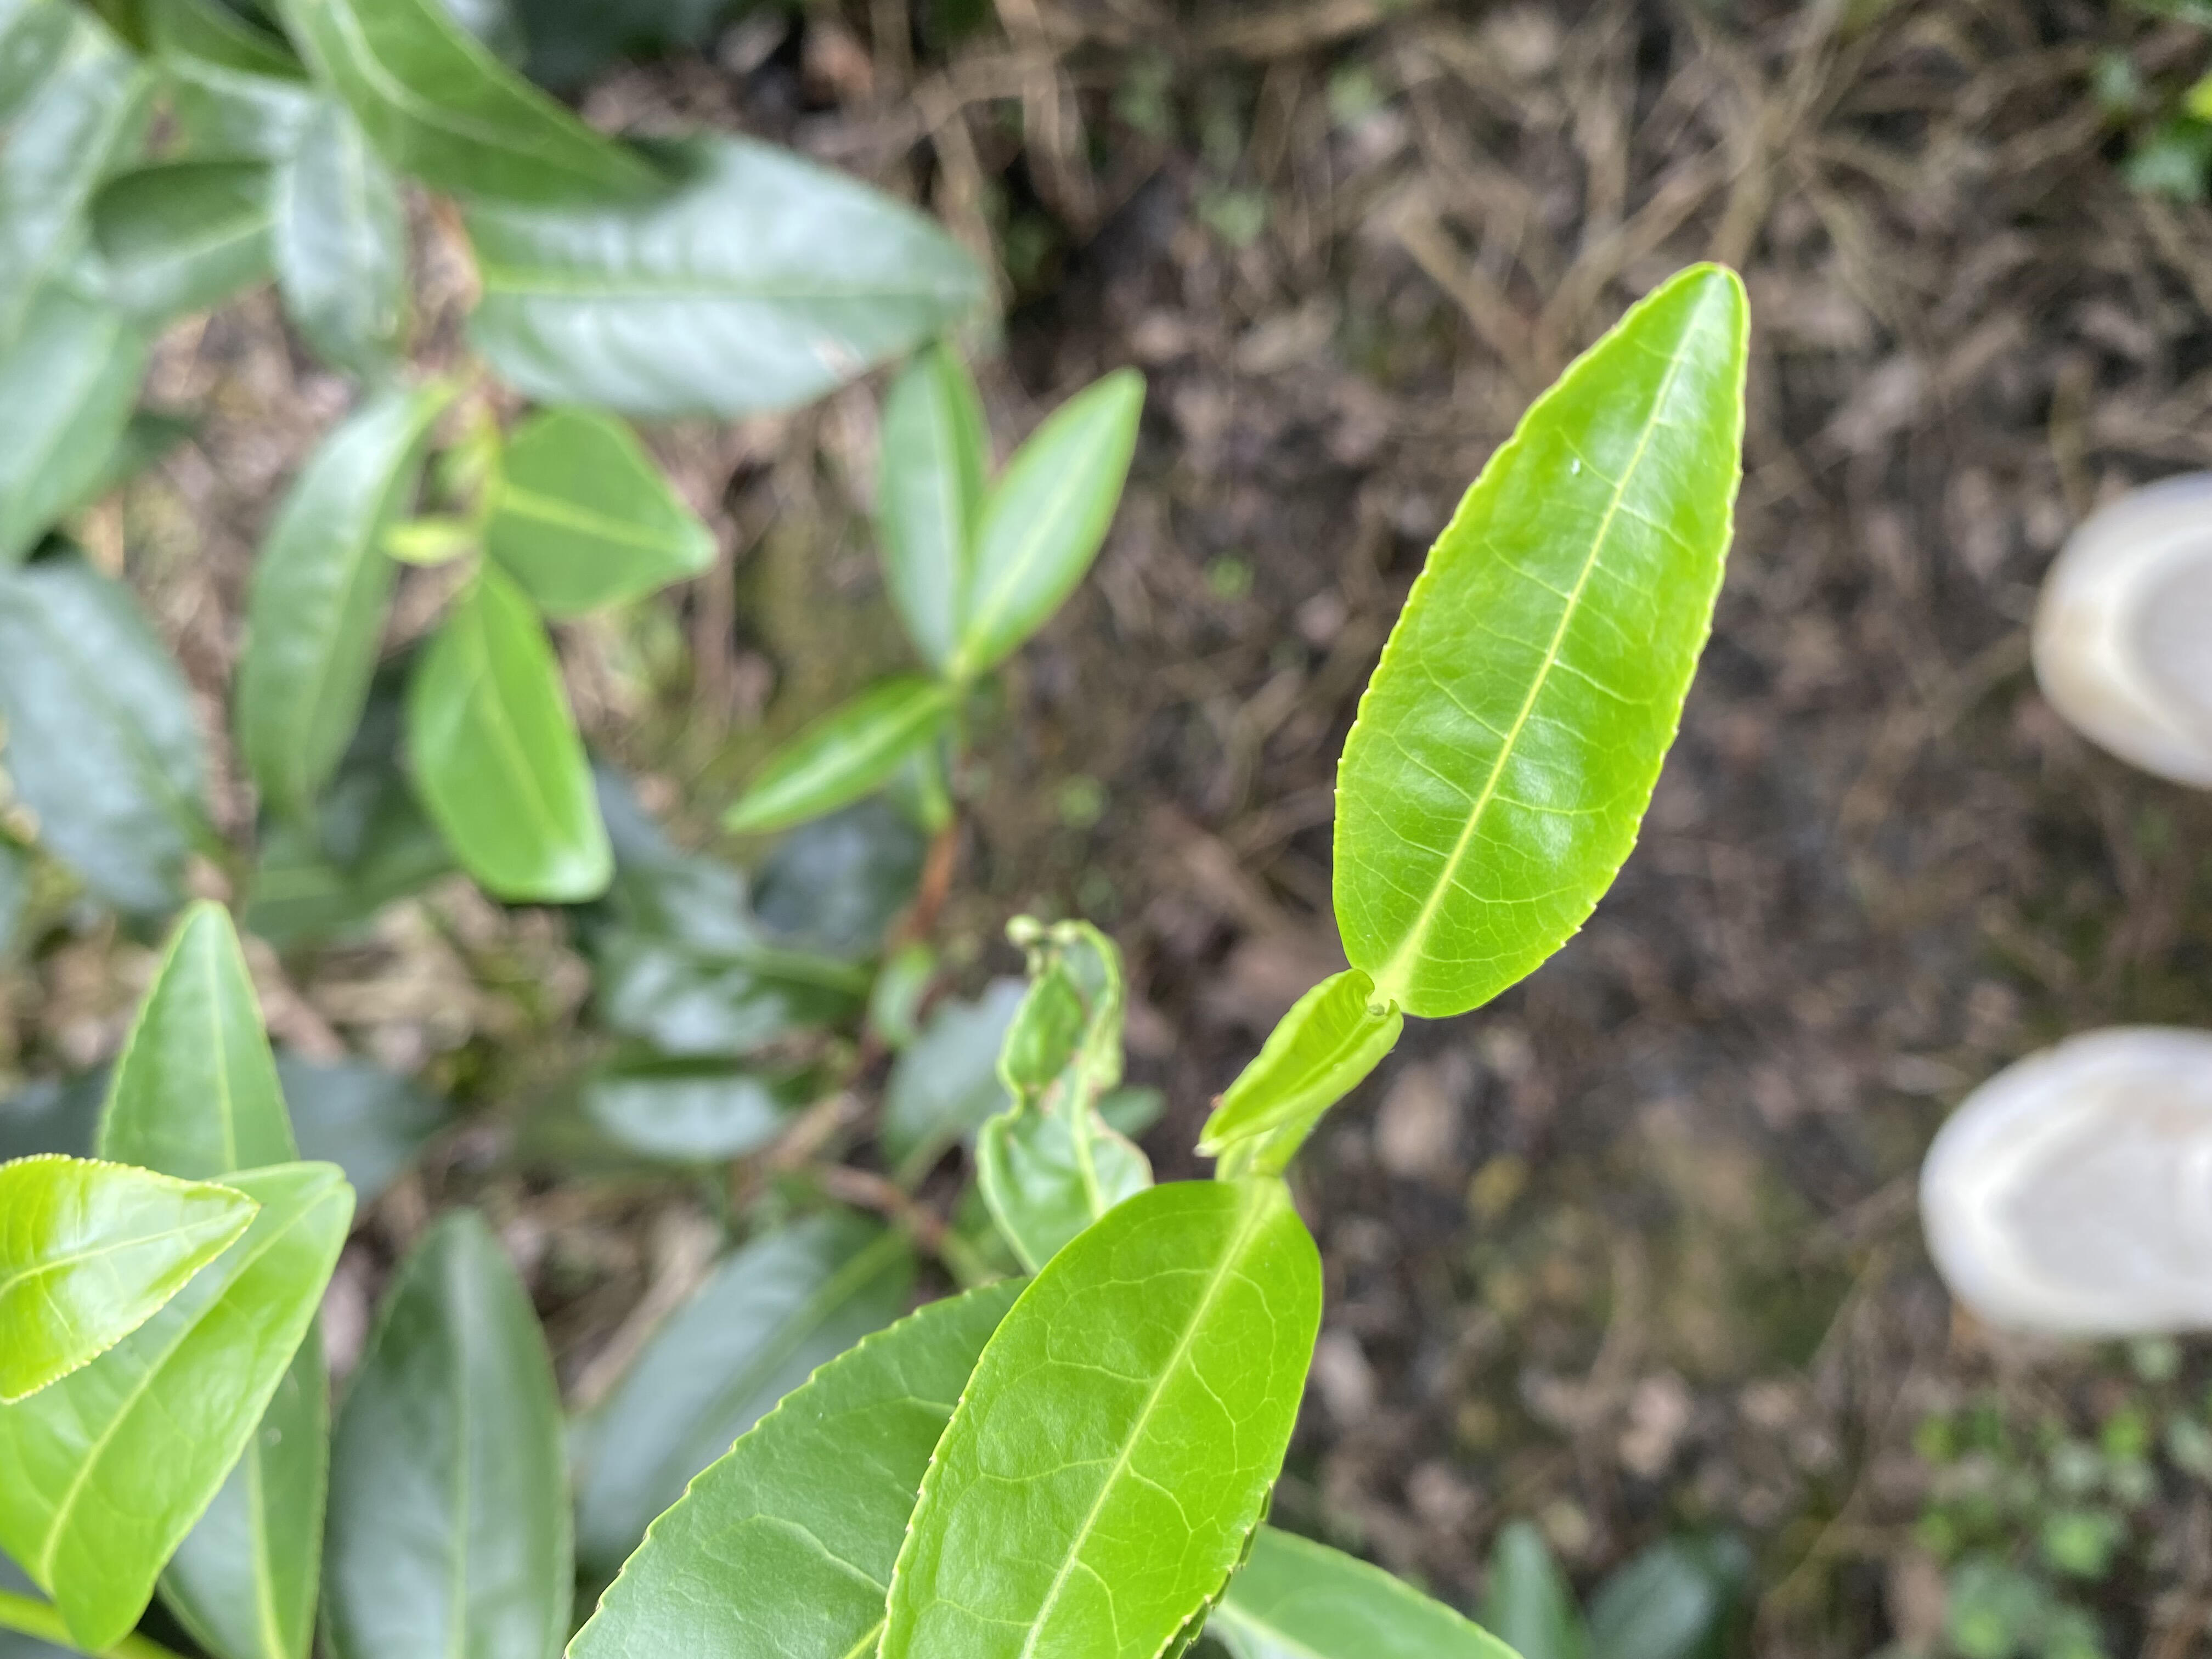healthy: (1332, 263, 1752, 1021), (873, 1173, 1322, 1656), (3, 1150, 258, 1406)
